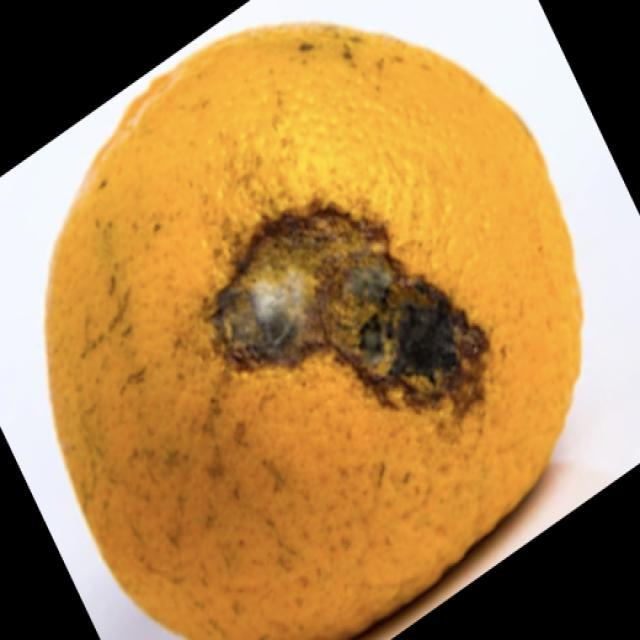sedikit-busuk: (47, 26, 581, 639), (214, 205, 487, 404)
